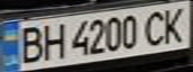0: (118, 11, 142, 50), (103, 14, 124, 52)
2: (87, 16, 109, 55)
4: (66, 17, 90, 59)
B: (12, 24, 48, 64)
C: (139, 7, 172, 46)
H: (36, 20, 69, 61)
K: (157, 3, 193, 44)
